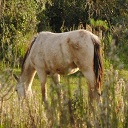caballo: (9, 22, 113, 118)
